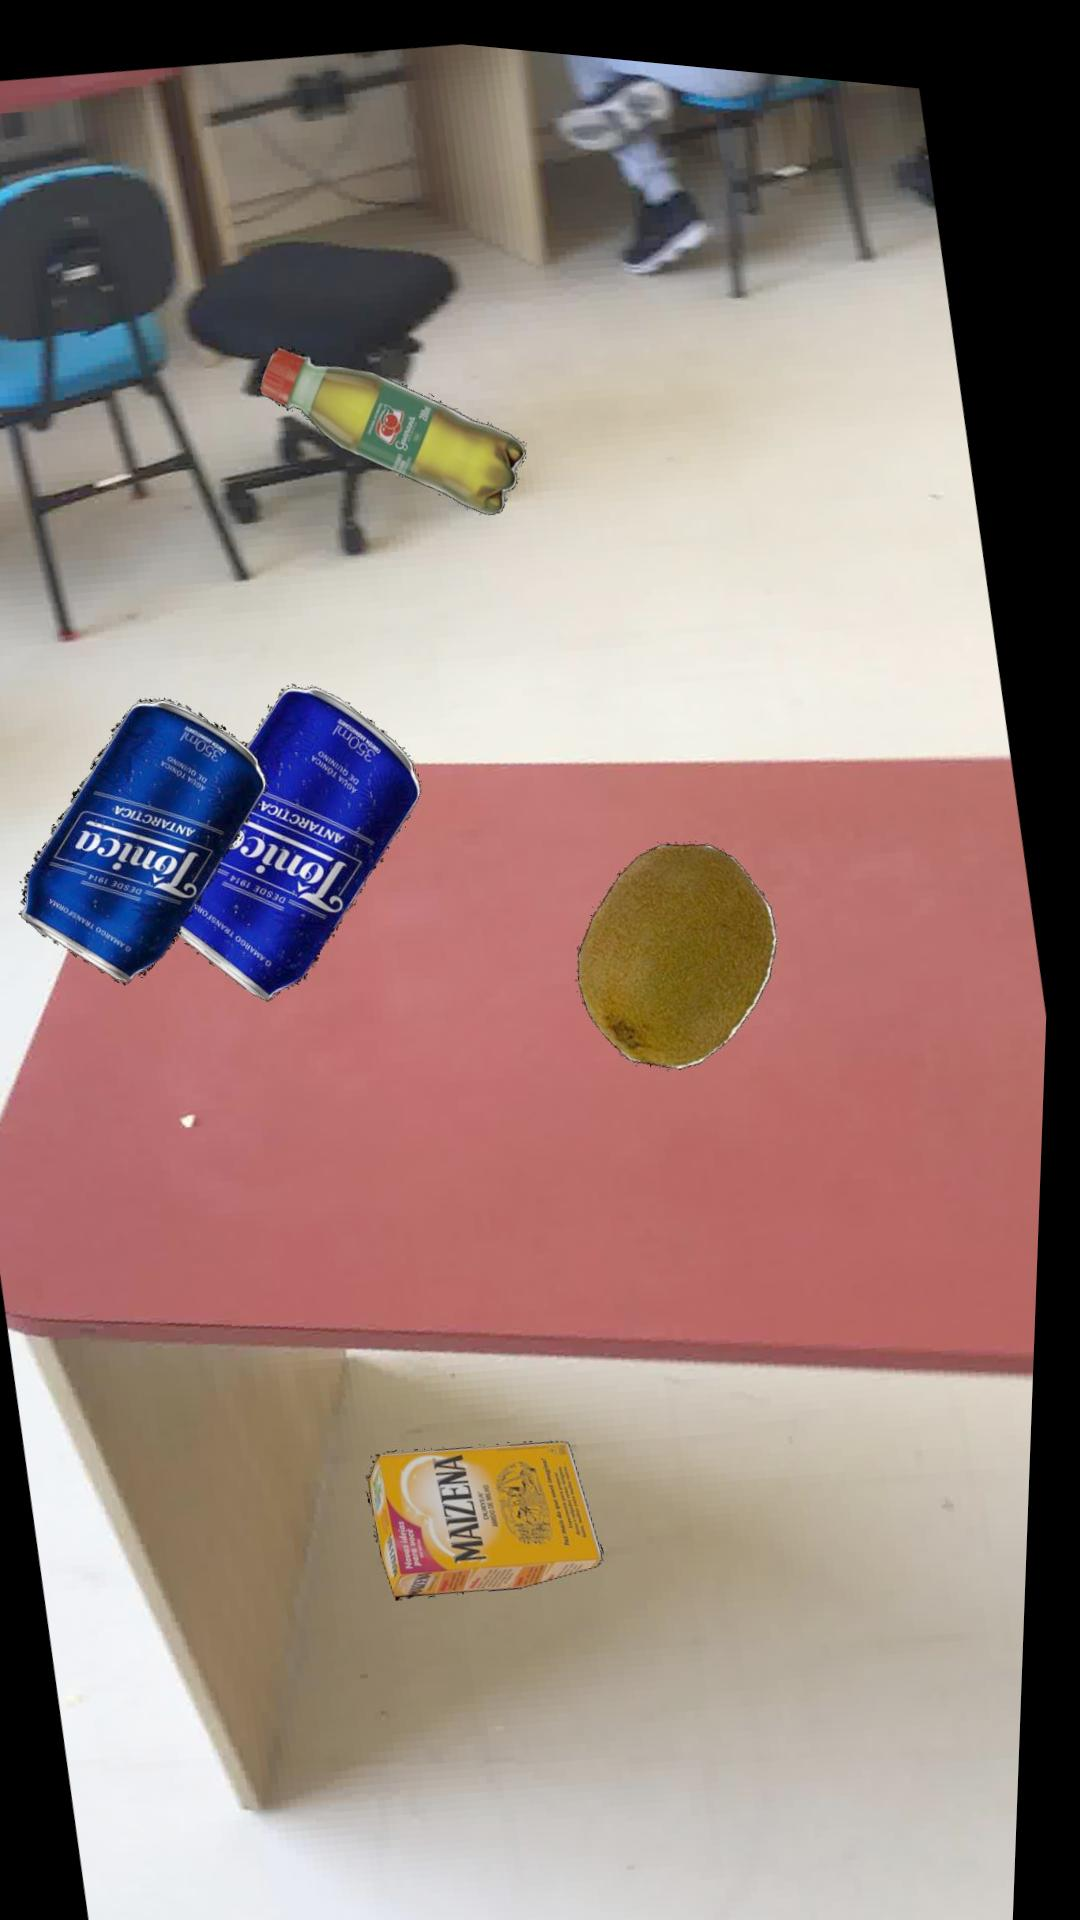guarana: (261, 338, 530, 502)
kiwi: (584, 827, 785, 1052)
tonic: (185, 678, 427, 993), (26, 692, 273, 977)
